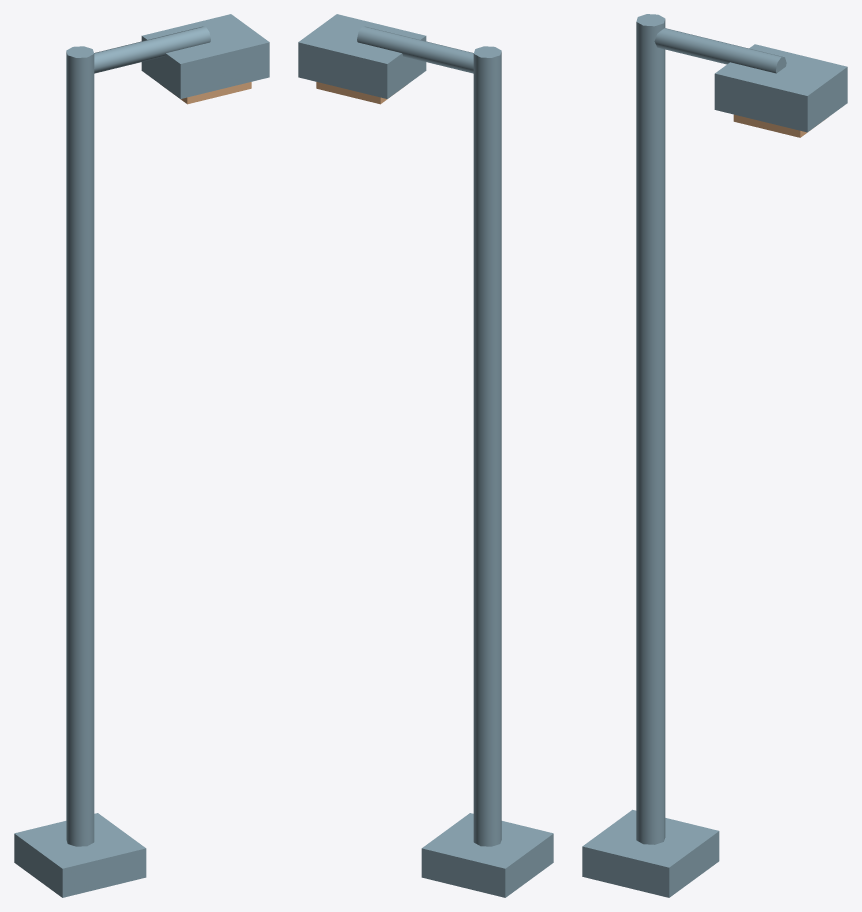
Rendered from prop-streetlamp.glb.
The picture shows the model from 3 angles, left to right: view 1: azimuth 30°, elevation 25°; view 2: azimuth 150°, elevation 25°; view 3: azimuth 330°, elevation 25°; orthographic projection. The views are drawn at different scales.
Parts seen in each view (by area): view 1: pole, base, shade, arm, lamp; view 2: pole, base, shade, arm, lamp; view 3: pole, shade, base, arm, lamp.
Boxes of the visible parts, x1,y1,x2,y2 form: pole: [66, 46, 94, 846]; base: [14, 813, 146, 897]; shade: [141, 14, 269, 98]; arm: [94, 26, 210, 73]; lamp: [163, 82, 251, 104]; pole: [473, 46, 501, 846]; base: [421, 813, 553, 897]; shade: [298, 14, 426, 98]; arm: [357, 26, 473, 73]; lamp: [316, 82, 404, 104]; pole: [636, 14, 665, 844]; shade: [714, 44, 847, 132]; base: [582, 809, 719, 897]; arm: [654, 28, 786, 73]; lamp: [733, 114, 825, 137].
Size of the model in its own units: 0.76 by 2.8 by 0.3.
